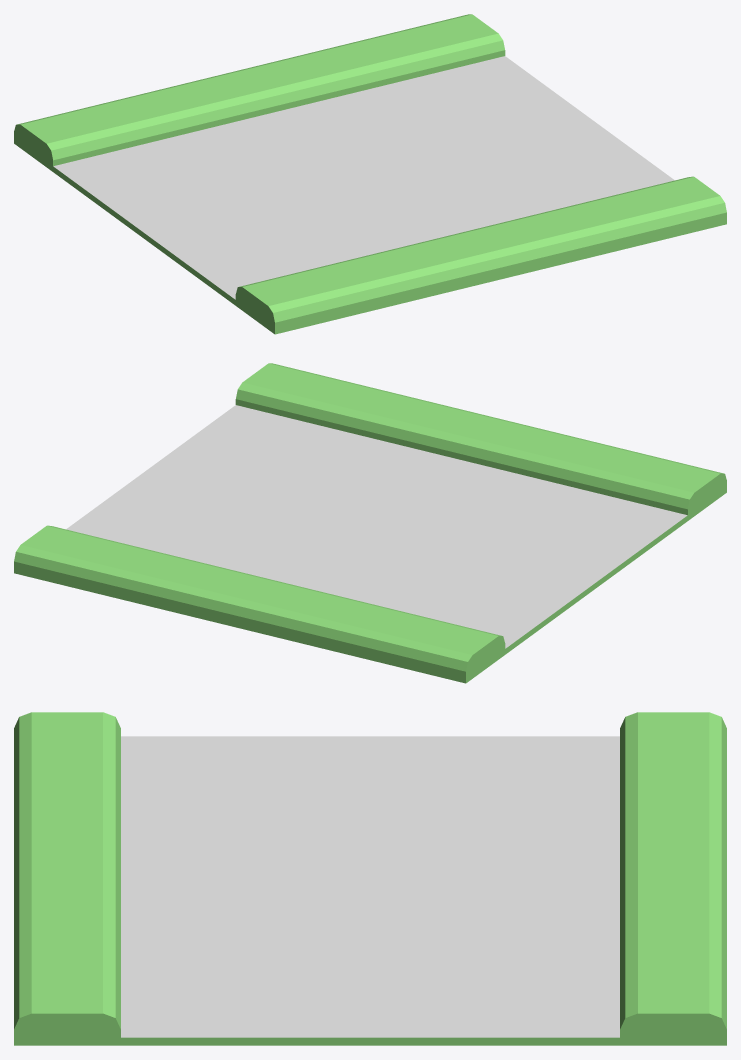
File: Ilook.fbx
The picture shows the model from 3 angles, top to bottom: view 1: azimuth 30°, elevation 25°; view 2: azimuth 150°, elevation 25°; view 3: azimuth 270°, elevation 25°; orthographic projection. The views are drawn at different scales.
Parts seen in each view (by area): view 1: 立方体.003; view 2: 立方体.003; view 3: 立方体.003.
Part boxes in pixels (bbox=[...]): 立方体.003: bbox=[14, 14, 726, 334]; 立方体.003: bbox=[14, 363, 726, 683]; 立方体.003: bbox=[14, 712, 726, 1045].
Bounding box in the file's own units: 200 × 10 × 200.
